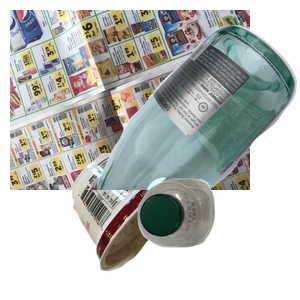glass: (86, 22, 300, 202)
paper: (10, 10, 250, 190)
plastic: (135, 176, 300, 300)
trash: (70, 149, 254, 300)
